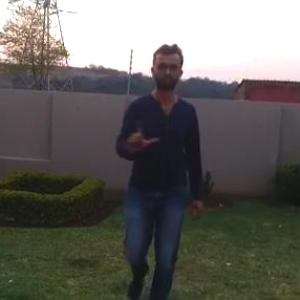land_hand: (122, 106, 162, 148)
